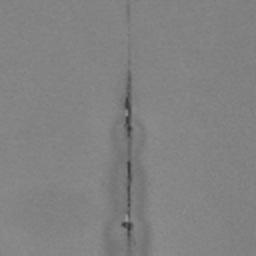Slag inclusion: (103, 59, 150, 256), (126, 3, 130, 22)
